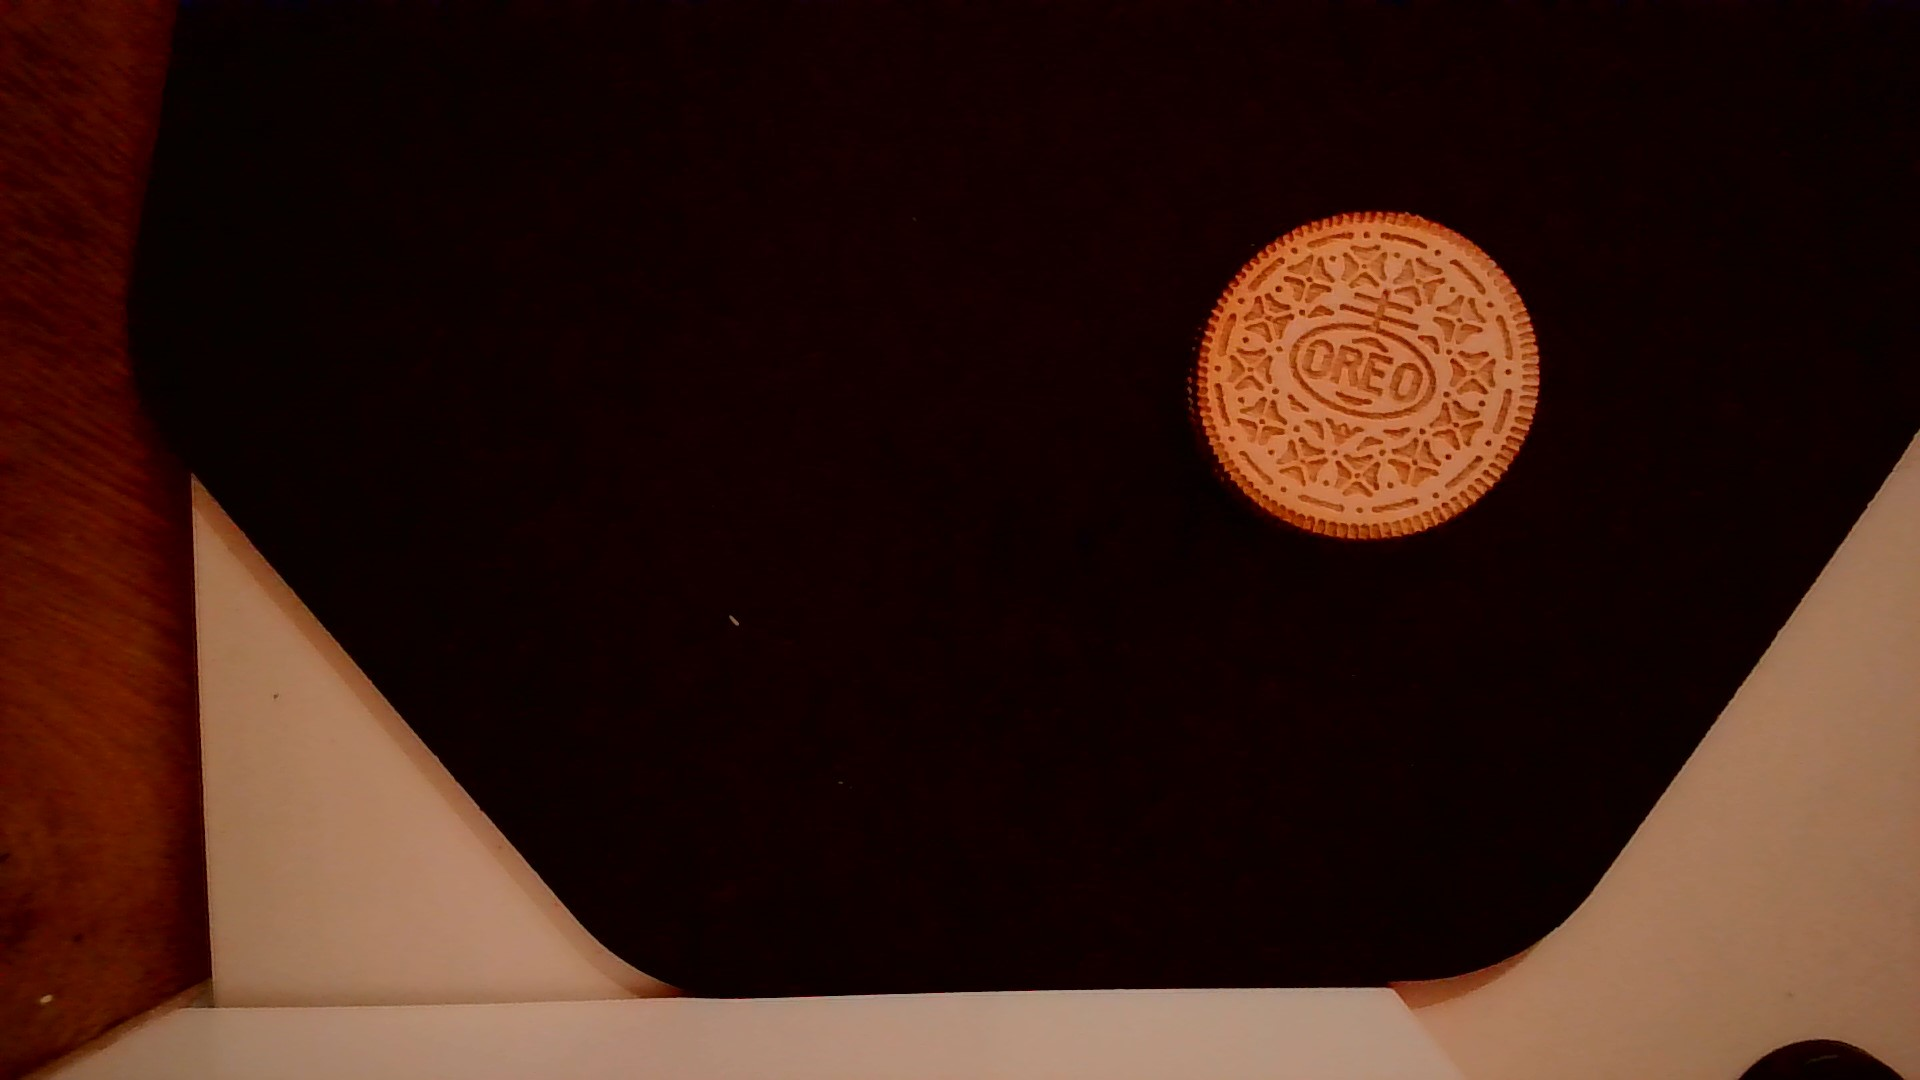Oréo: (1182, 198, 1551, 549)
